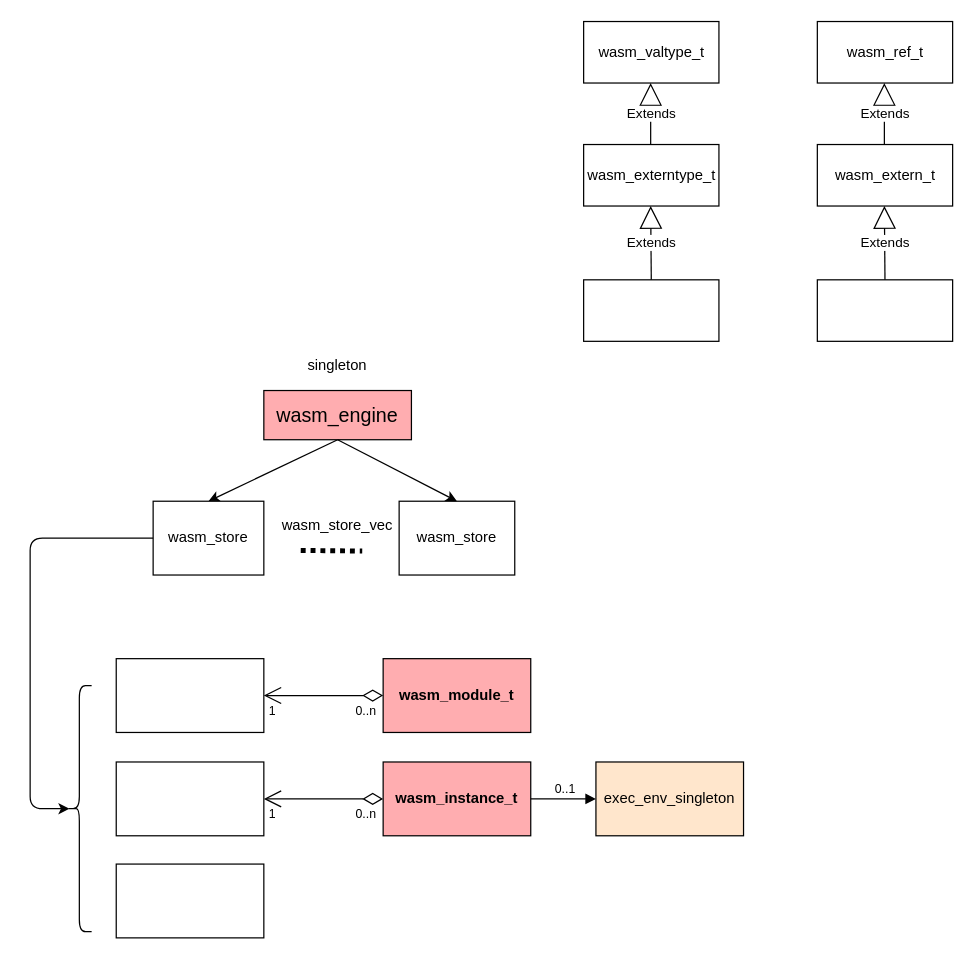
Some shapes in this 974 by 959 pixel diagram are drawn without their labels. The shapes that lost their labels are listed below. From the top down, each one's centre as x and y in pixels, then its label:
At (650,310): "wasm_xtype_t".
At (884,310): "wasm_x_t".
At (189,694): "wasm_module_vec".
At (189,798): "wasm_instance_vec".
At (189,900): "foreign_vec".
